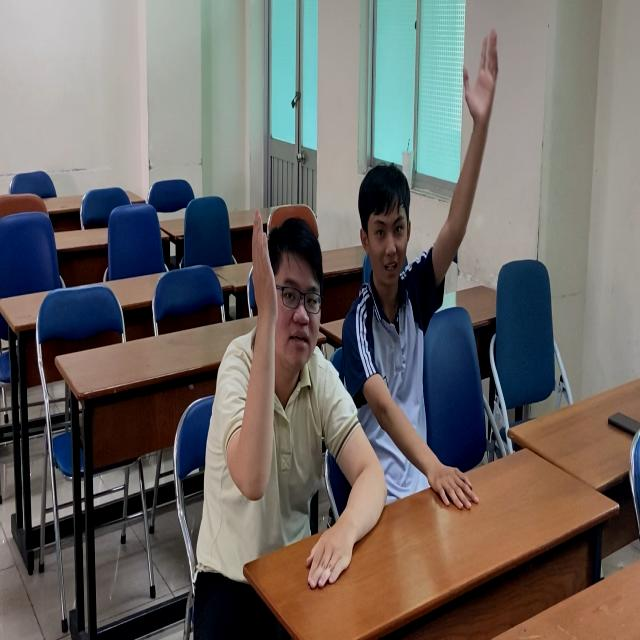raise_hand: (351, 73, 500, 531), (213, 205, 332, 563)
